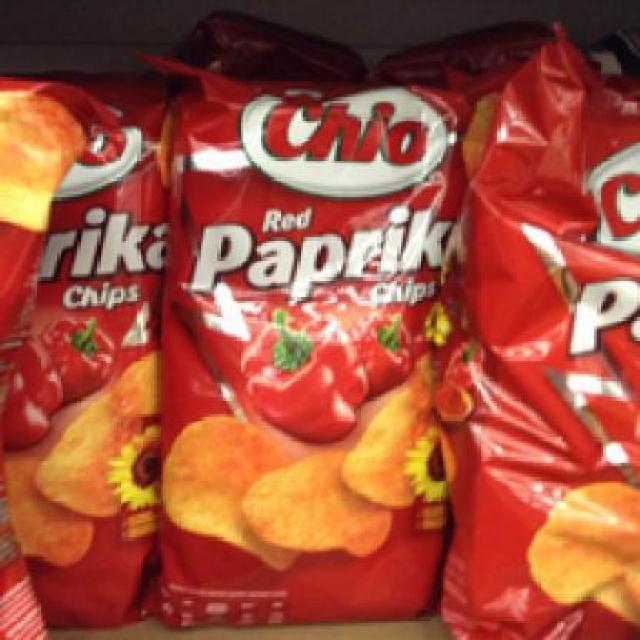Chips: (150, 60, 467, 626), (455, 40, 631, 637)
